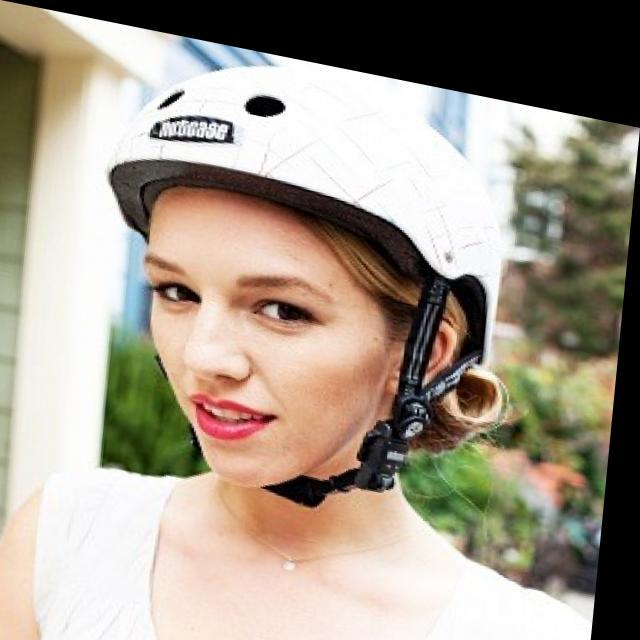Helmet: (102, 61, 516, 502)
